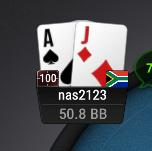As: (37, 23, 75, 87)
Jd: (76, 22, 126, 85)
